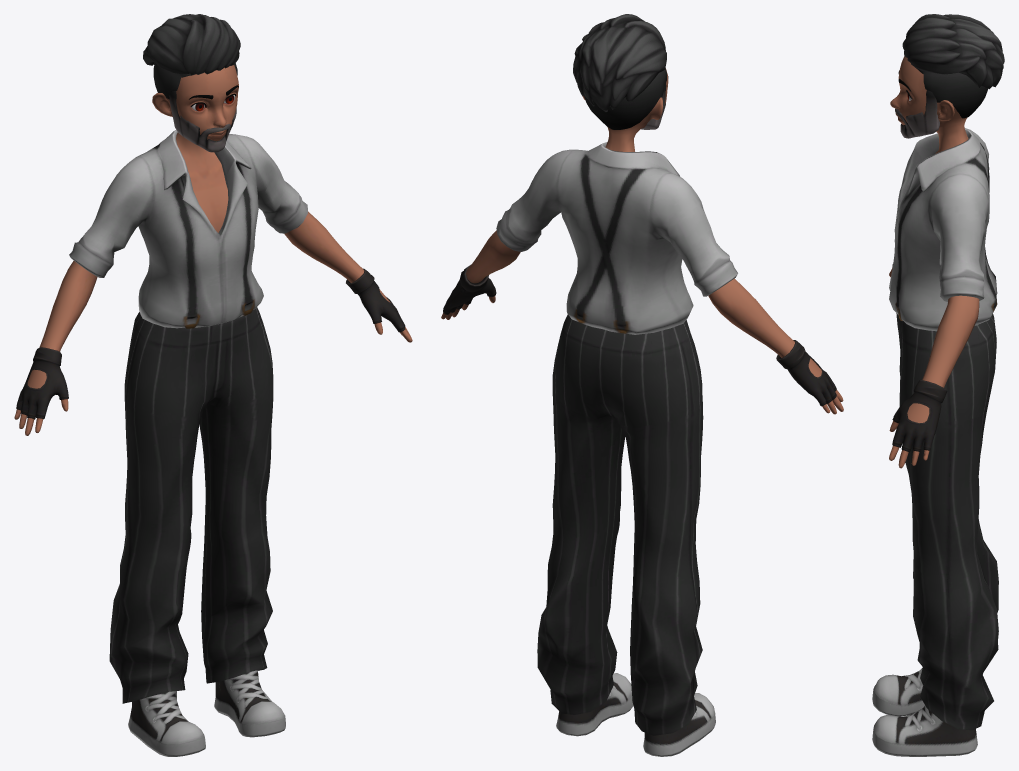
Rendered from StaffJohn_Mesh.obj.
3 renders of one model, left to right at view 1: azimuth 30°, elevation 25°; view 2: azimuth 150°, elevation 25°; view 3: azimuth 270°, elevation 25°, orthographic.
Visible parts, largest first — view 1: StaffJohn_Mesh_0; view 2: StaffJohn_Mesh_0; view 3: StaffJohn_Mesh_0.
Boxes of the visible parts, left/top/right/bottom form: StaffJohn_Mesh_0: left=14, top=14, right=412, bottom=756; StaffJohn_Mesh_0: left=441, top=14, right=843, bottom=756; StaffJohn_Mesh_0: left=872, top=14, right=1004, bottom=756.
Size of the model in its own units: 1.06 by 1.84 by 0.3103.
1 material, 1 textured.
